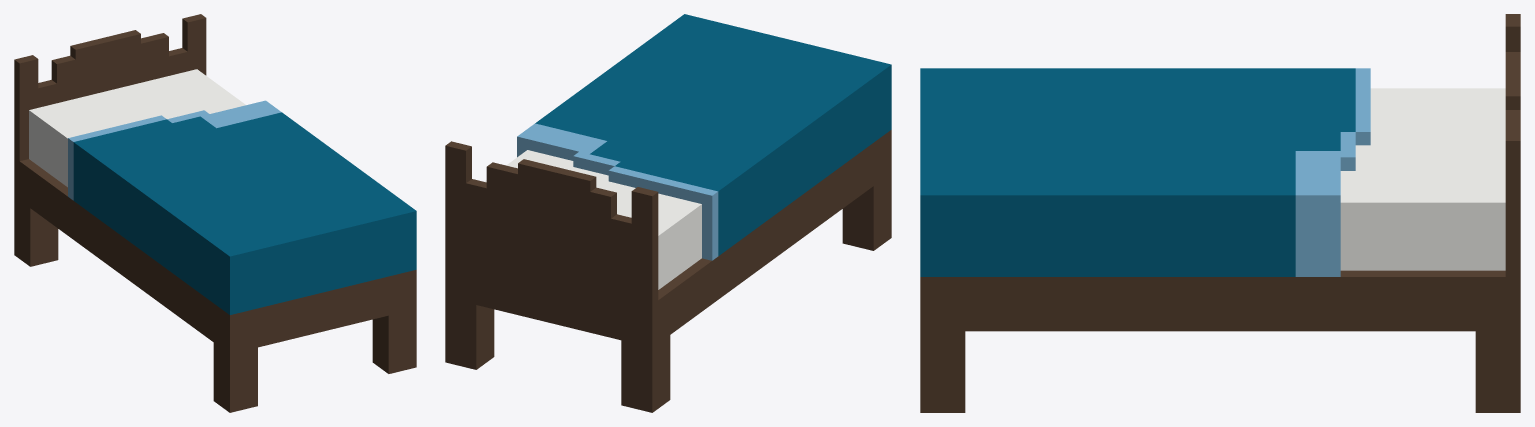
File: camavox.glb
The picture shows the model from 3 angles, left to right: view 1: azimuth 30°, elevation 25°; view 2: azimuth 150°, elevation 25°; view 3: azimuth 270°, elevation 25°; orthographic projection. The views are drawn at different scales.
Size of the model in its own units: 2 by 2 by 4.
Materials: 1 (1 with a texture image).
